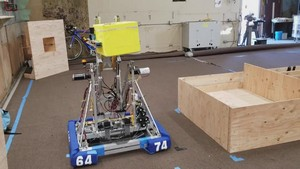cube: (94, 22, 143, 58)
